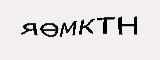К: (77, 15, 96, 36)
М: (57, 20, 76, 38)
Н: (116, 12, 140, 35)
Т: (97, 12, 116, 35)
Я: (18, 20, 38, 38)
Ө: (38, 19, 58, 38)
